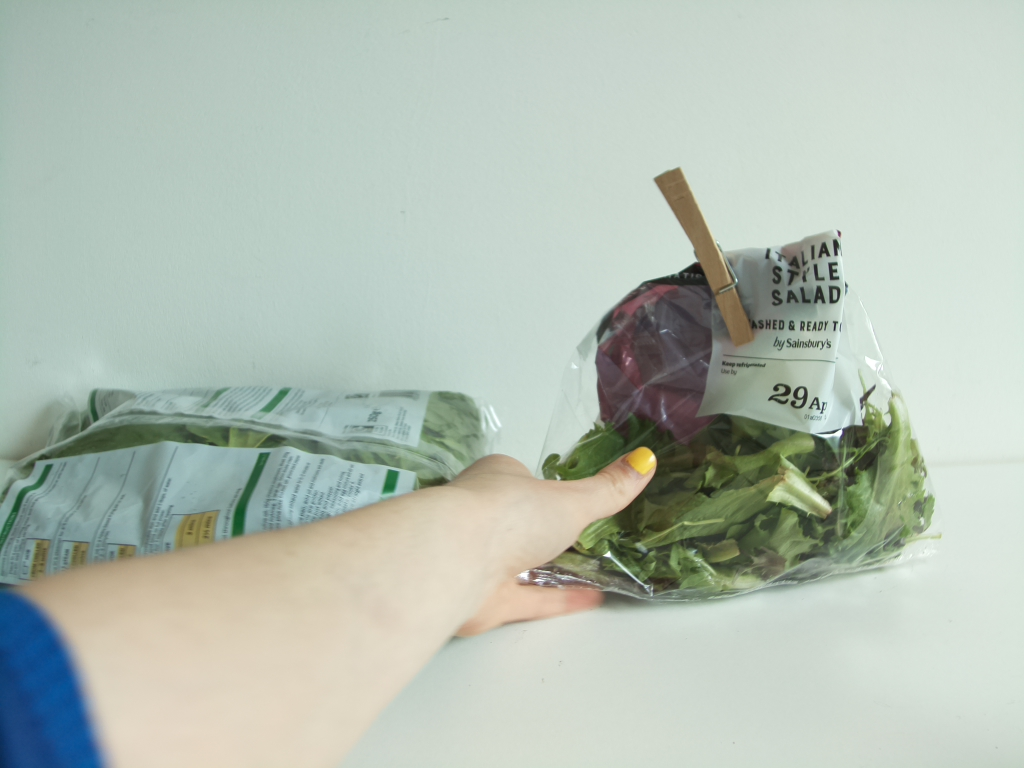salad: (512, 231, 938, 594), (3, 382, 491, 582)
